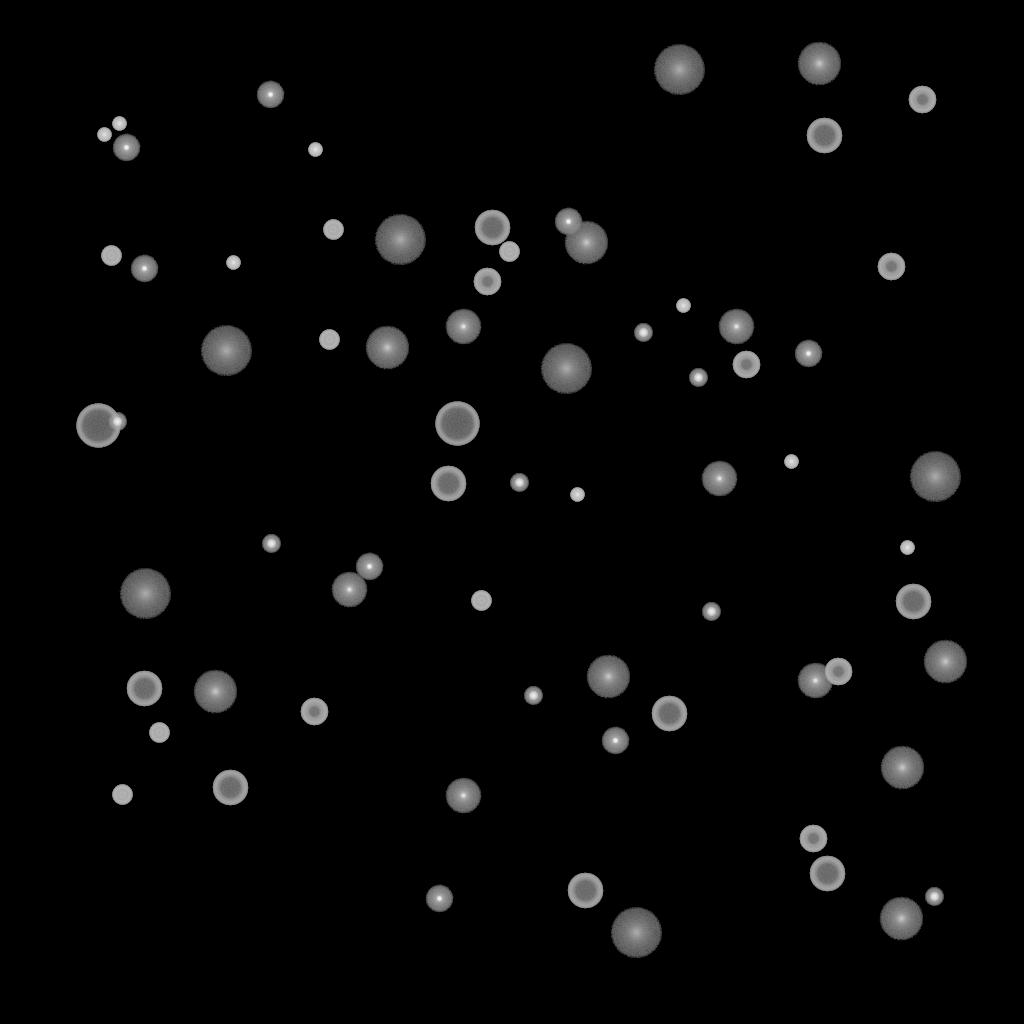depth:-10: (355, 553, 383, 581), (794, 340, 822, 368), (554, 208, 582, 236), (601, 727, 629, 755), (256, 81, 284, 109), (425, 885, 453, 913), (112, 134, 140, 162), (130, 255, 158, 283)
depth:-20: (925, 888, 943, 906), (702, 603, 720, 621), (108, 413, 126, 431), (510, 474, 528, 492), (634, 324, 652, 342), (524, 687, 542, 705), (689, 369, 707, 387), (262, 535, 280, 553)
depth:-30: (308, 143, 322, 157), (226, 256, 240, 270), (112, 117, 126, 131), (900, 541, 914, 555), (97, 128, 111, 142), (784, 455, 798, 469), (676, 299, 690, 313), (570, 488, 584, 502)
depth:-40: (499, 242, 519, 262), (323, 220, 343, 240), (112, 785, 132, 805), (101, 246, 121, 266), (471, 591, 491, 611), (149, 723, 169, 743), (319, 330, 339, 350)
depth:-50: (473, 268, 501, 296), (300, 698, 328, 726), (732, 351, 760, 379), (877, 253, 905, 281), (824, 658, 852, 686), (799, 825, 827, 853), (908, 86, 936, 114)
depth:-60: (809, 856, 845, 892), (895, 584, 931, 620), (651, 696, 687, 732), (806, 118, 842, 154), (212, 770, 248, 806), (474, 210, 510, 246), (430, 466, 466, 502), (126, 671, 162, 707), (567, 873, 603, 909)
depth:-70: (435, 402, 479, 446), (76, 404, 120, 448)
depth:0: (718, 309, 754, 345), (701, 461, 737, 497), (797, 663, 833, 699), (445, 778, 481, 814), (445, 309, 481, 345), (331, 572, 367, 608)
depth:10: (365, 326, 409, 370), (879, 897, 923, 941), (564, 221, 608, 265), (880, 746, 924, 790), (193, 670, 237, 714), (586, 655, 630, 699), (923, 640, 967, 684), (797, 42, 841, 86)
depth:20: (119, 569, 171, 619), (200, 326, 252, 376), (540, 344, 592, 394), (653, 45, 705, 95), (909, 452, 961, 502), (374, 215, 426, 265), (610, 908, 662, 958)
